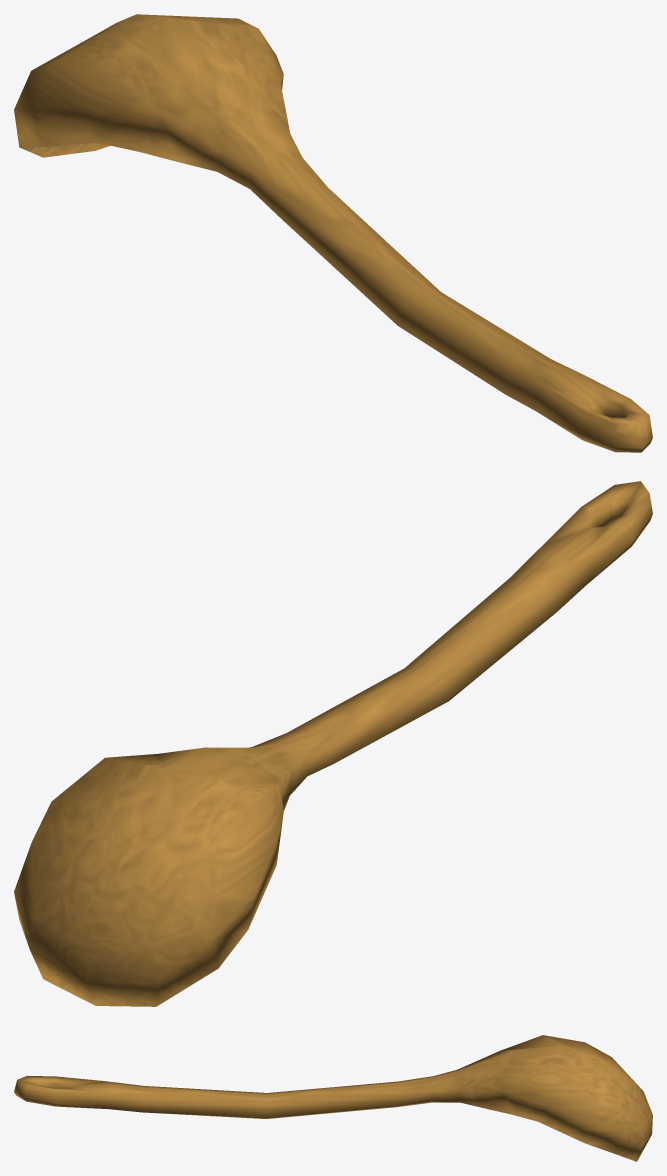
File: ustensils5.glb
The picture shows the model from 3 angles, top to bottom: view 1: azimuth 30°, elevation 25°; view 2: azimuth 150°, elevation 25°; view 3: azimuth 270°, elevation 25°; orthographic projection. The views are drawn at different scales.
Parts seen in each view (by area): view 1: ustensils5; view 2: ustensils5; view 3: ustensils5.
Part boxes in pixels (x1,y1,x2,y2): ustensils5: (14, 14, 652, 452); ustensils5: (14, 481, 652, 1006); ustensils5: (14, 1035, 652, 1161).
Size of the model in its own units: 0.5657 by 0.4496 by 2.46.
1 material, 1 textured.
